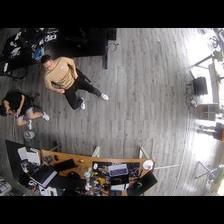normal: (39, 58, 113, 114)
